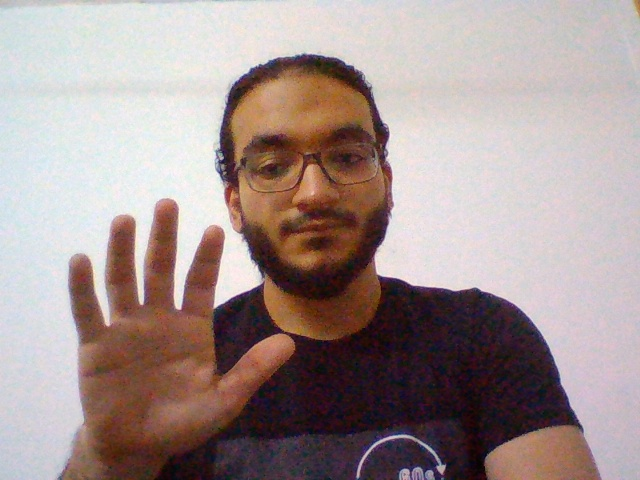Hello: (62, 188, 301, 469)
